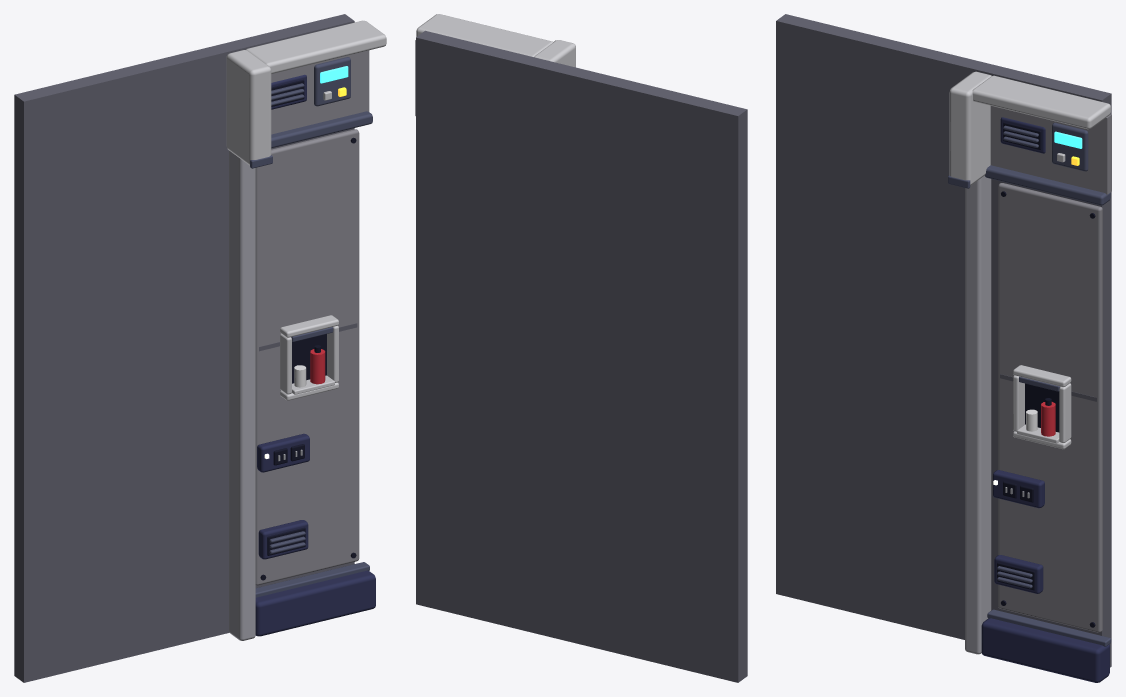
The model's file is int.wallbay.far.01.w1.glb.
The picture shows the model from 3 angles, left to right: view 1: azimuth 30°, elevation 25°; view 2: azimuth 150°, elevation 25°; view 3: azimuth 330°, elevation 25°; orthographic projection. The views are drawn at different scales.
Parts seen in each view (by area): view 1: int.wallbay.far.01.w1; view 2: int.wallbay.far.01.w1; view 3: int.wallbay.far.01.w1.
Part boxes in pixels (x1,y1,x2,y2): int.wallbay.far.01.w1: (14, 14, 386, 682); int.wallbay.far.01.w1: (415, 14, 747, 682); int.wallbay.far.01.w1: (776, 14, 1111, 682).
Size of the model in its own units: 1.03 by 1.68 by 0.192.
